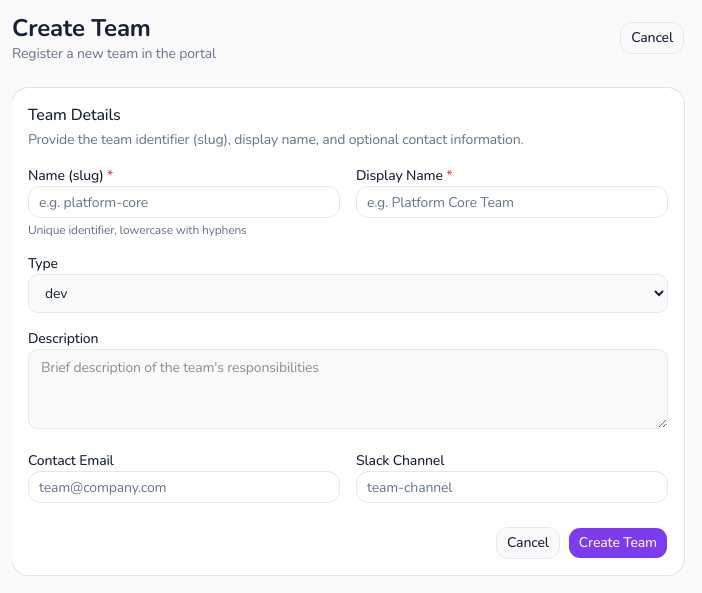
Test case: NewTeamClient › disables the submit button while submitting
The image size is (702, 593).
Type "platform-core" into the field labelled "Name (slug) *" at (184, 202), box [28, 186, 340, 218]
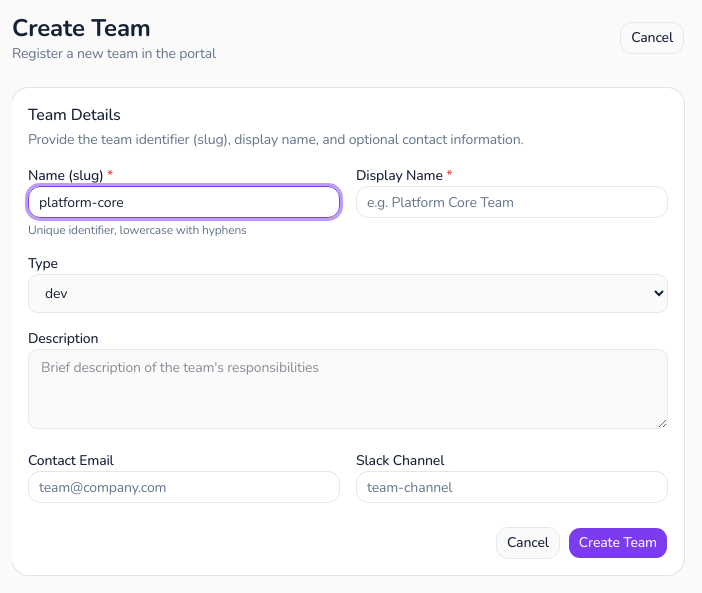
Type "Platform Core Team" into the field labelled "Display Name *" at (512, 202), box [356, 186, 668, 218]
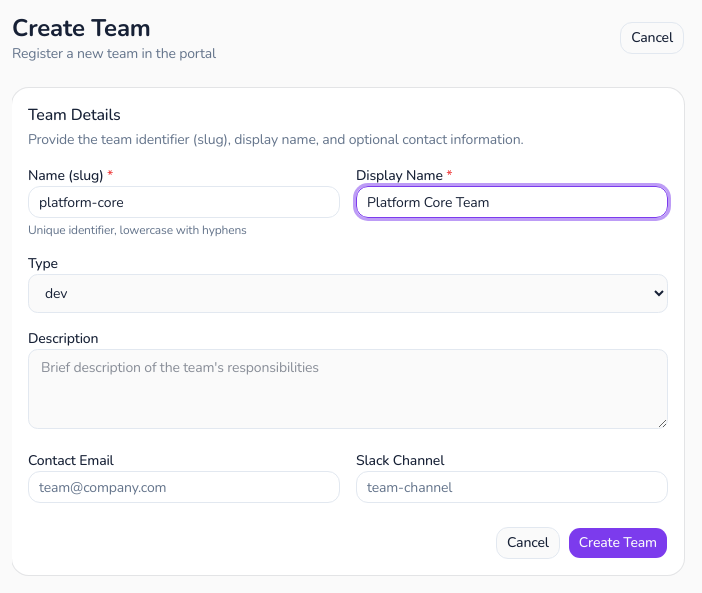
Click the button "Create Team" at (618, 543), box [568, 527, 668, 559]
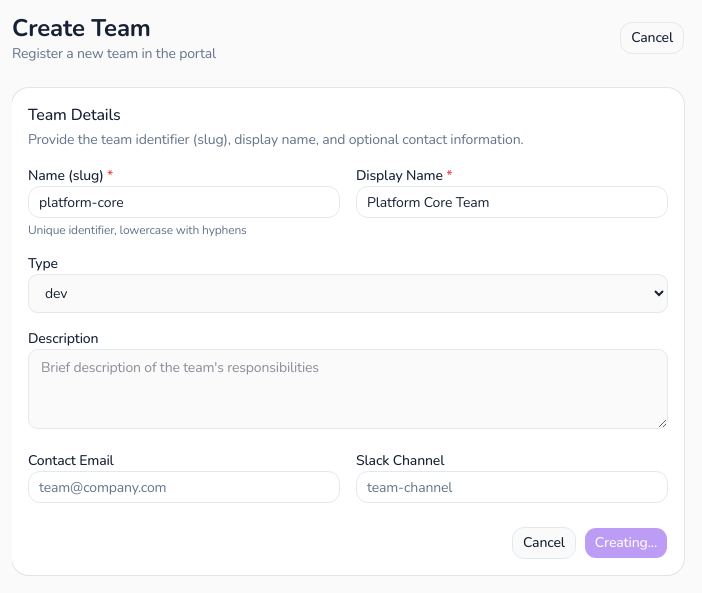
Result: the button "Creating..." is disabled at [584, 527, 668, 559]
